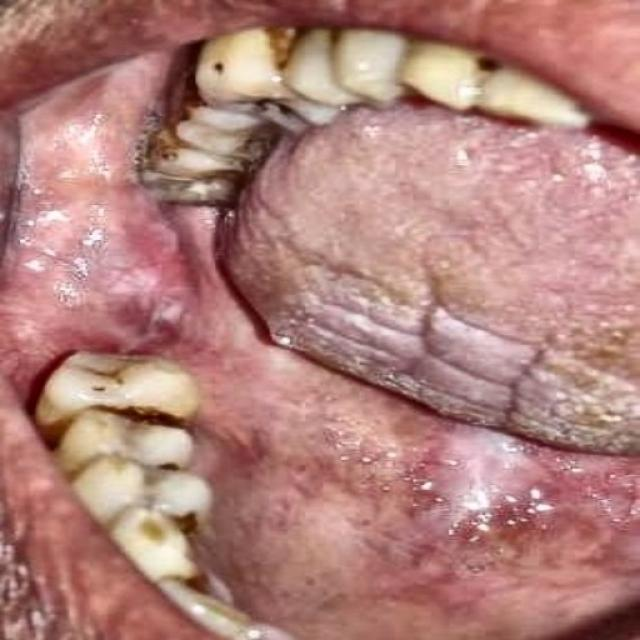cancer-detection: (22, 60, 192, 349), (418, 429, 539, 549)
processing_area: (19, 52, 638, 639)
